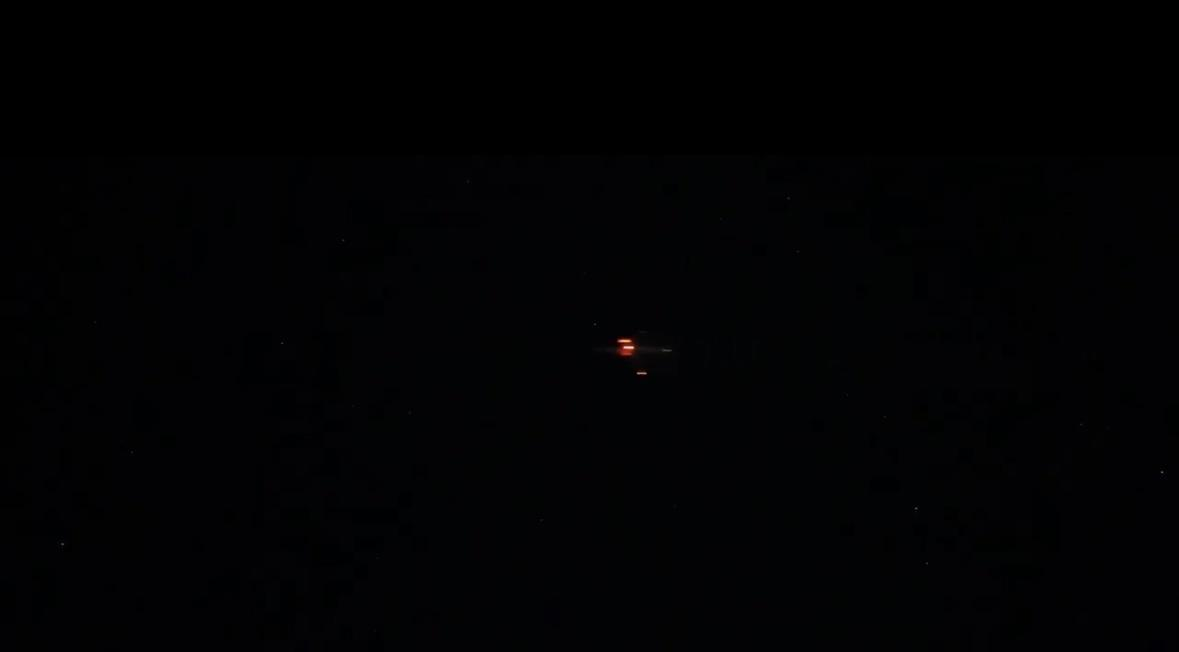Plane: (578, 320, 695, 392)
